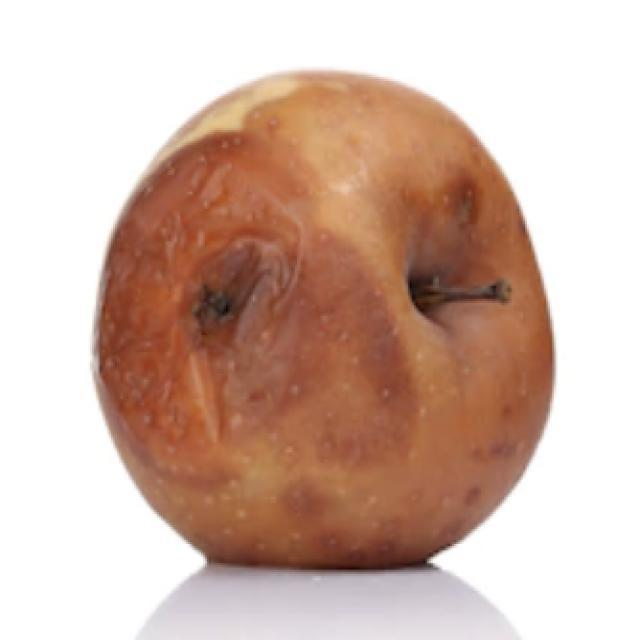Rotten: (104, 68, 548, 592)
